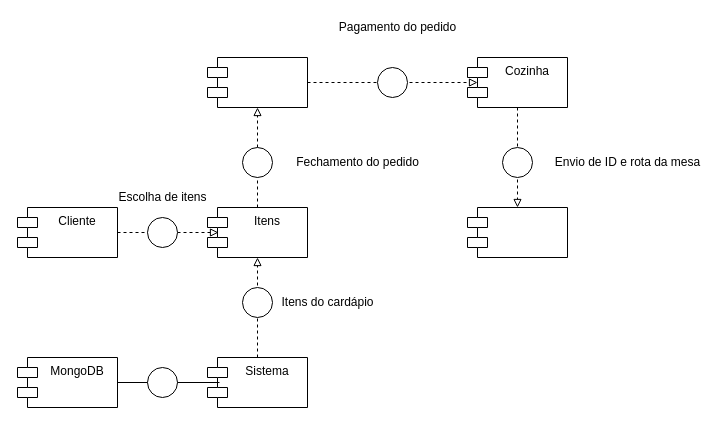
The diagram is 725 pixels wide and 425 high, and some of its shapes have lost their labels. The shapes that lost their labels are listed below. From the top down, each one's centre as x and y in pixels, then its label:
At (257,82): "Pedido".
At (517,232): "Robô Garçom".
